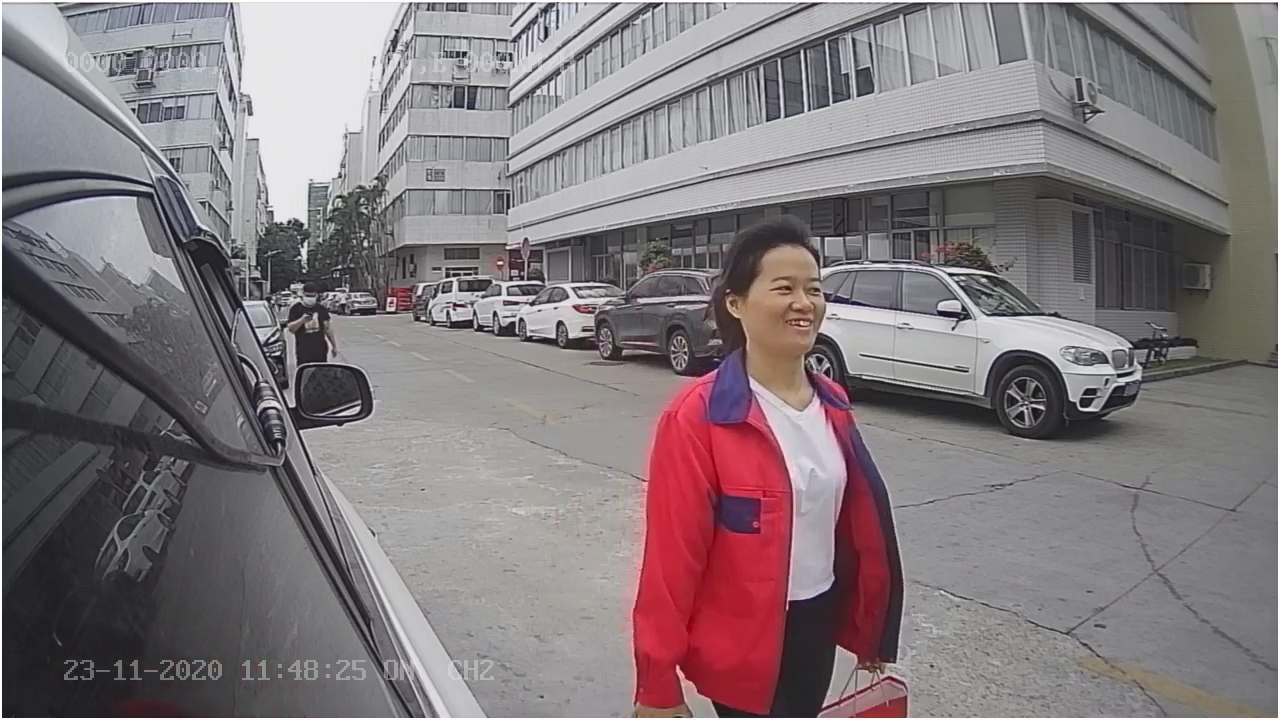person: (634, 219, 900, 600)
